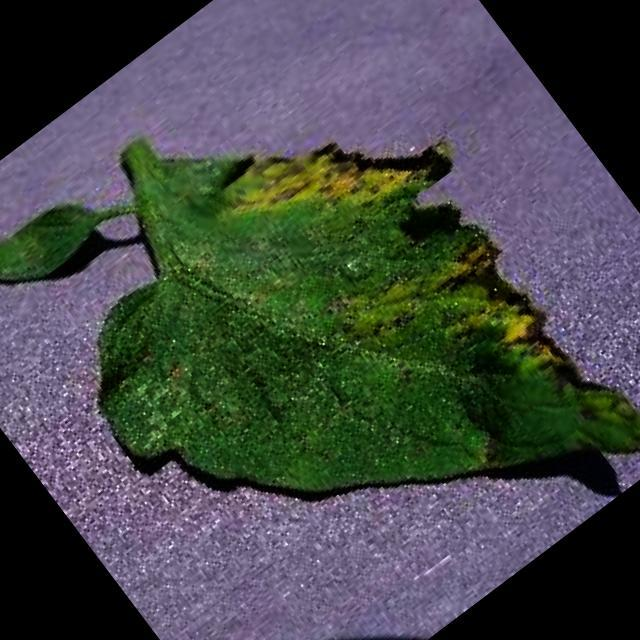Tomato Septoria spot leaf: (5, 30, 640, 640)
